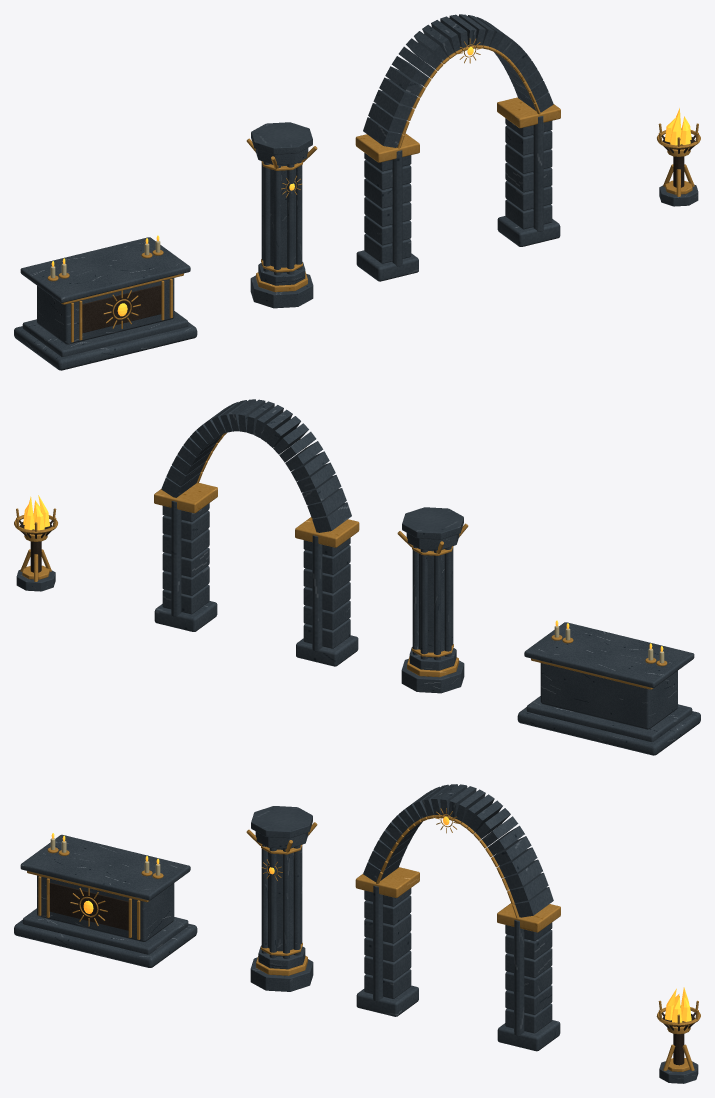
File: environment.glb
3 renders of one model, top to bottom at view 1: azimuth 30°, elevation 25°; view 2: azimuth 150°, elevation 25°; view 3: azimuth 330°, elevation 25°, orthographic.
Visible parts, largest first — view 1: Arch_Crafted_Mesh, Altar_Crafted_Mesh, Pillar_Crafted_Mesh, Brazier_Crafted_Mesh; view 2: Arch_Crafted_Mesh, Altar_Crafted_Mesh, Pillar_Crafted_Mesh, Brazier_Crafted_Mesh; view 3: Arch_Crafted_Mesh, Altar_Crafted_Mesh, Pillar_Crafted_Mesh, Brazier_Crafted_Mesh.
Part boxes in pixels (left/top/right/bottom): Arch_Crafted_Mesh: left=355, top=14, right=560, bottom=281; Altar_Crafted_Mesh: left=14, top=235, right=197, bottom=370; Pillar_Crafted_Mesh: left=246, top=122, right=317, bottom=308; Brazier_Crafted_Mesh: left=657, top=108, right=700, bottom=206; Arch_Crafted_Mesh: left=154, top=399, right=359, bottom=666; Altar_Crafted_Mesh: left=517, top=620, right=700, bottom=755; Pillar_Crafted_Mesh: left=397, top=507, right=468, bottom=693; Brazier_Crafted_Mesh: left=14, top=495, right=57, bottom=591; Arch_Crafted_Mesh: left=355, top=784, right=560, bottom=1051; Altar_Crafted_Mesh: left=14, top=833, right=197, bottom=967; Pillar_Crafted_Mesh: left=246, top=806, right=317, bottom=991; Brazier_Crafted_Mesh: left=656, top=987, right=700, bottom=1083.
Bounding box in the file's own units: 15.03 × 4.96 × 1.85.
5 materials, 4 textured.
